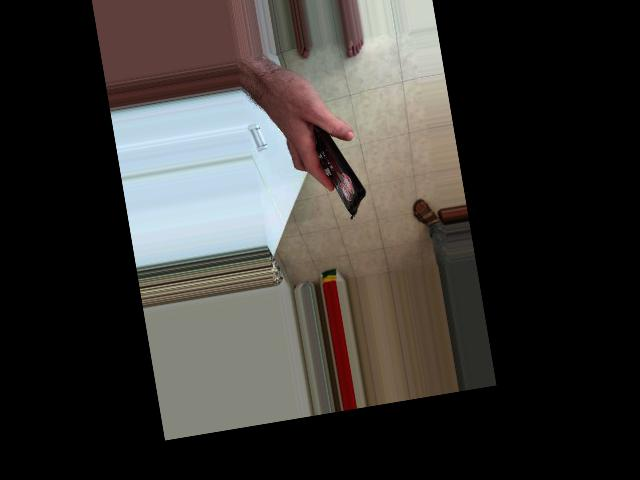chocolate: (296, 107, 371, 227)
